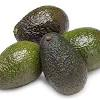aguacate: (39, 29, 92, 98), (10, 1, 73, 46)
